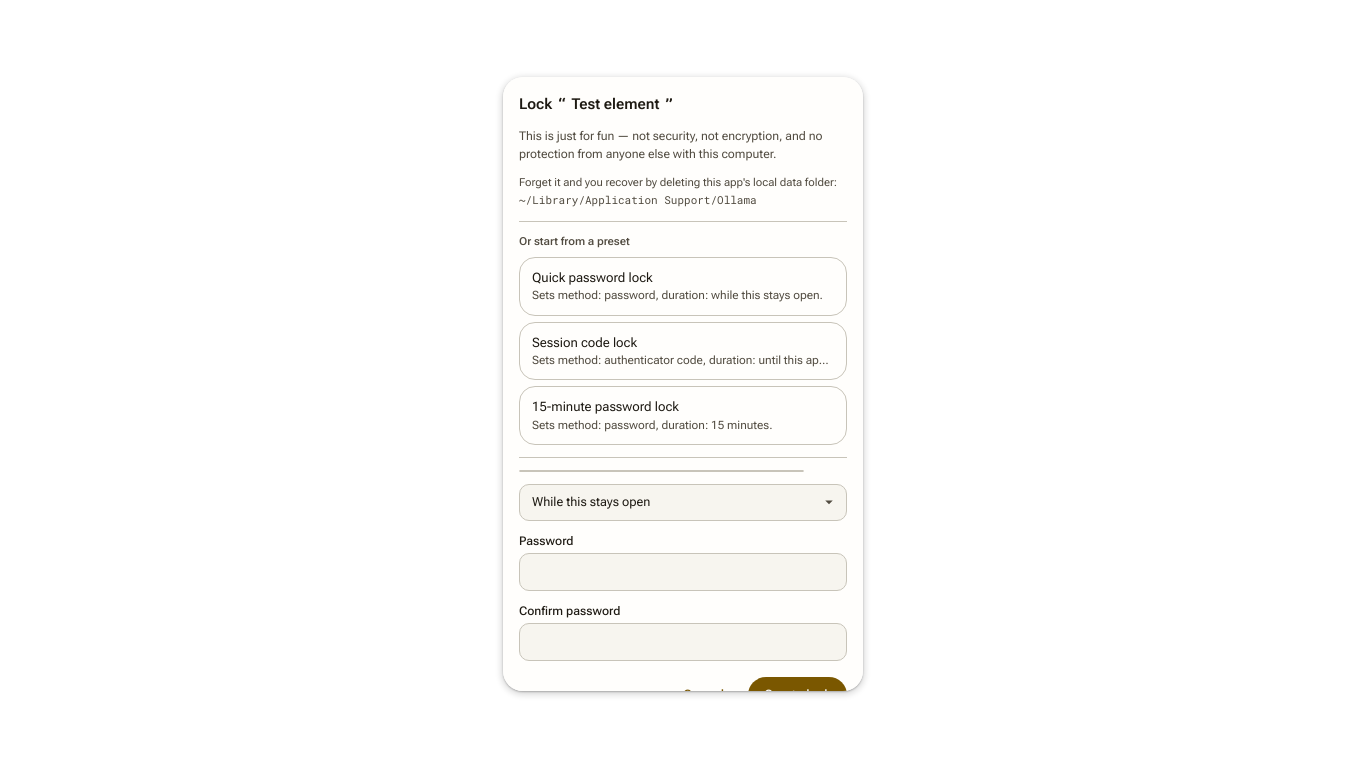
Scenario: LockWizard blank-slate presets › applying the Session code preset switches both the method and duration controls together
Click the text "Session code lock" at (584, 342), box x1=532 y1=334 x2=637 y2=350
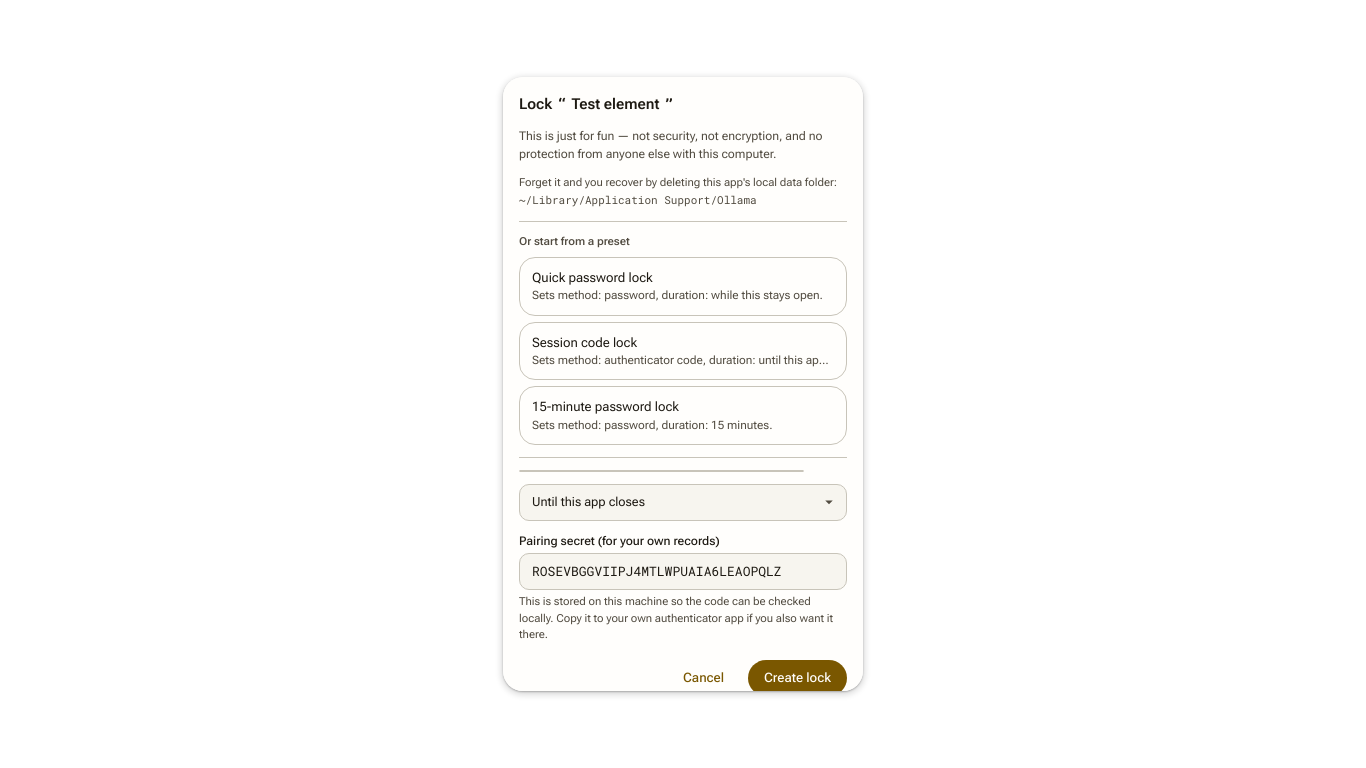
Expected: the dropdown named "Unlock duration" shows "Until this app closes", x1=520 y1=485 x2=846 y2=520
